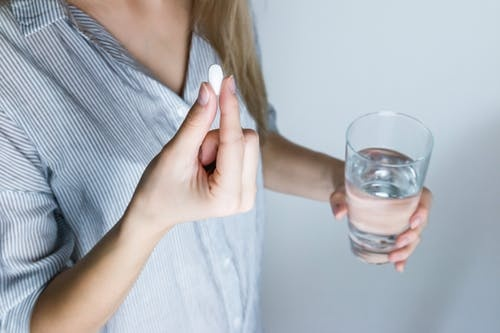pills: (207, 62, 231, 101)
